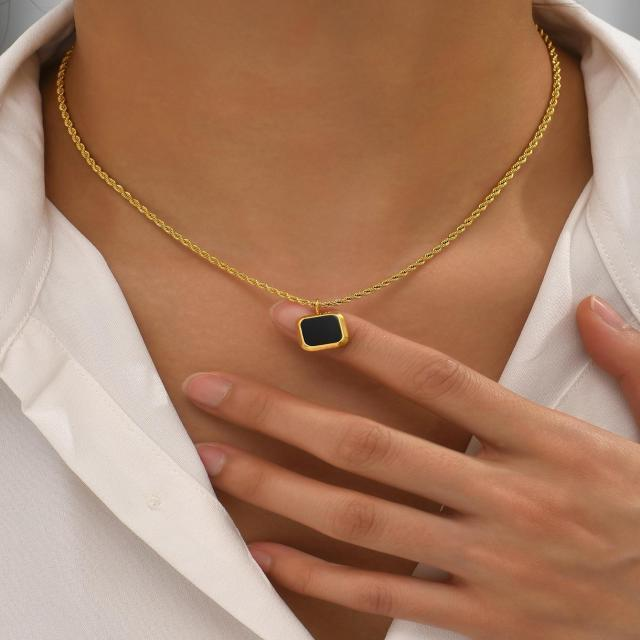Nail: (183, 373, 231, 413), (270, 301, 310, 340), (589, 296, 632, 332), (198, 444, 225, 477), (251, 545, 271, 575)
